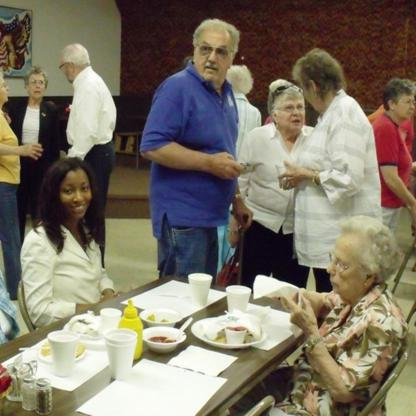face: (195, 27, 233, 83), (327, 243, 366, 295), (60, 172, 93, 220), (277, 95, 306, 131), (298, 77, 318, 111), (396, 94, 416, 121), (29, 73, 46, 100), (60, 57, 74, 84), (1, 75, 11, 103)
